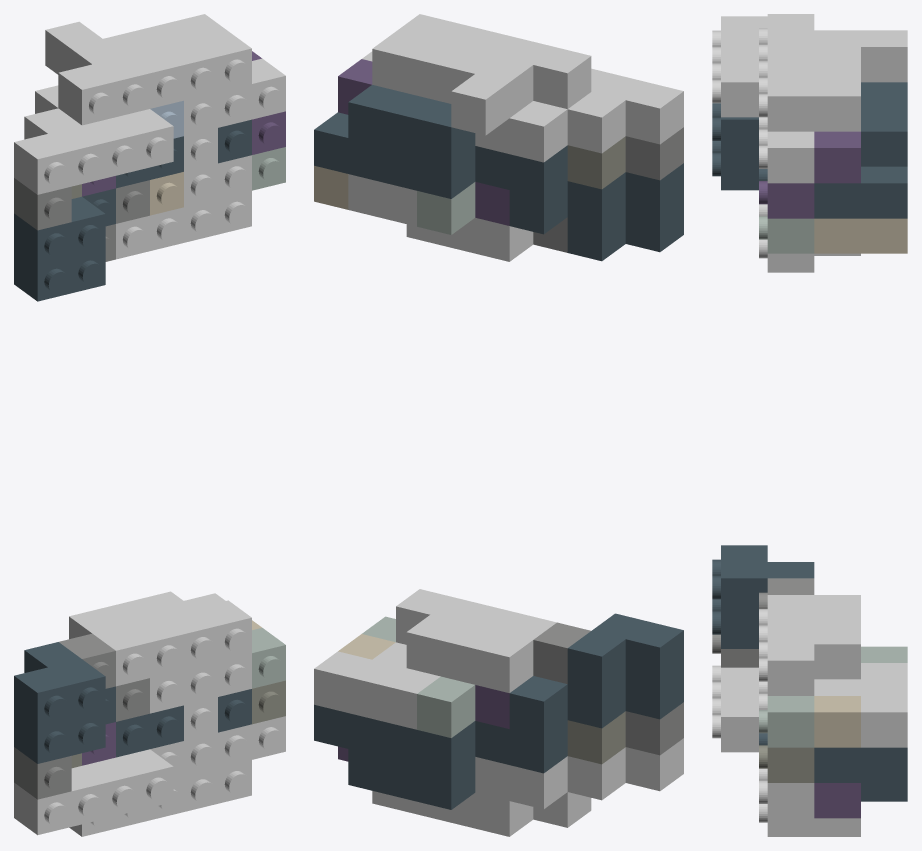
Rendered from full.glb.
The picture shows the model from 3 angles, left to right: view 1: azimuth 30°, elevation 25°; view 2: azimuth 150°, elevation 25°; view 3: azimuth 270°, elevation 25°; orthographic projection.
Visible parts, largest first — view 1: world; view 2: world; view 3: world.
Part boxes in pixels (bbox=[...]): world: bbox=[14, 14, 285, 836]; world: bbox=[314, 14, 683, 836]; world: bbox=[712, 14, 907, 836].
Size of the model in its own units: 64 by 168 by 40.2.
